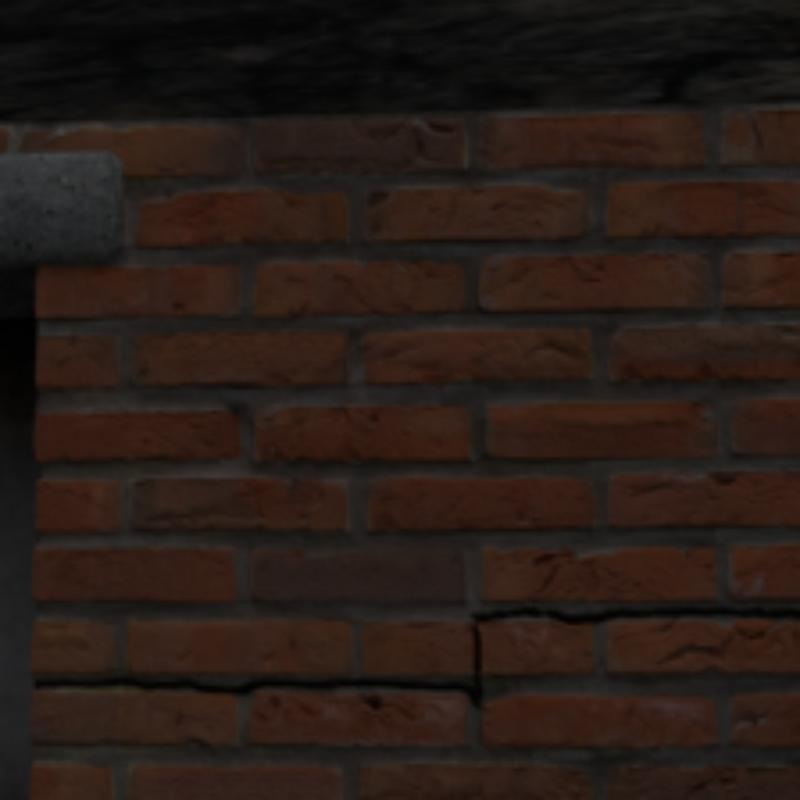pothole: (236, 607, 796, 707), (36, 679, 236, 689)
